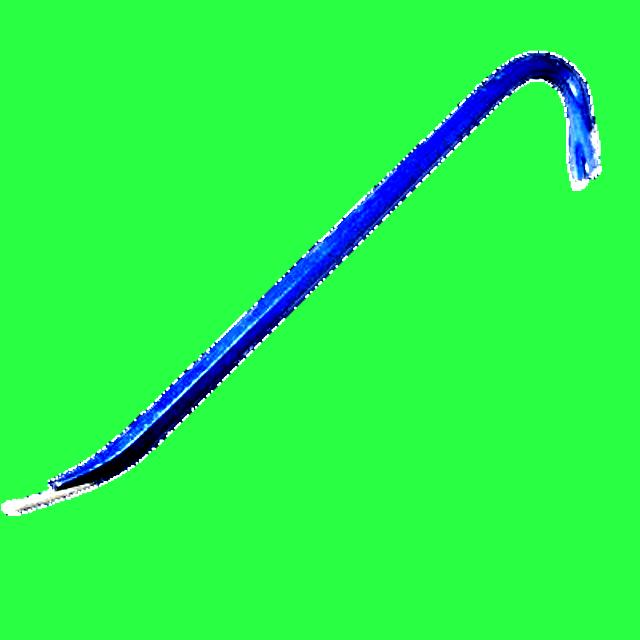crow bar: (21, 38, 609, 542)
